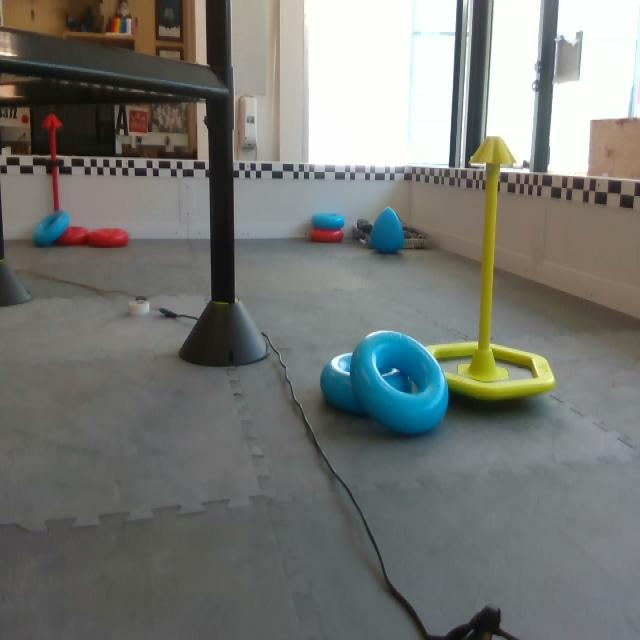Blue-Ring: (350, 331, 451, 435), (316, 353, 414, 412), (31, 210, 69, 247), (308, 212, 352, 230)
Mobile-Goal: (419, 134, 569, 408)
Red-Ring: (85, 228, 132, 252), (57, 221, 93, 244), (305, 228, 348, 247)
Yellow-Stake-Head: (468, 134, 518, 168)
zred-Stake-Head: (42, 114, 63, 128)
